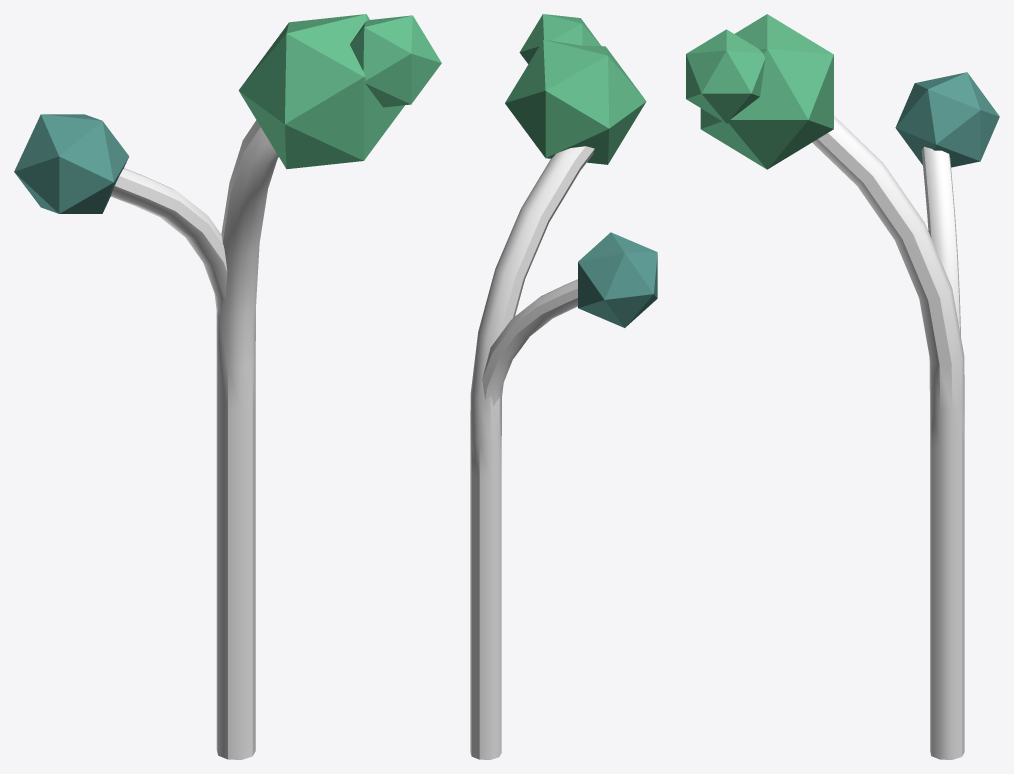
File: Flower_3_sprout.obj
The picture shows the model from 3 angles, left to right: view 1: azimuth 30°, elevation 25°; view 2: azimuth 150°, elevation 25°; view 3: azimuth 270°, elevation 25°; orthographic projection. The views are drawn at different scales.
Visible parts, largest first — view 1: Branch3, Platonic_1, Platonic, Platonic.8, Branch2; view 2: Branch3, Platonic_1, Platonic, Branch2, Platonic.8; view 3: Branch3, Platonic_1, Platonic, Platonic.8, Branch2.
Boxes of the visible parts, <box> form: Branch3: <box>216,120,278,759</box>; Platonic_1: <box>238,14,404,169</box>; Platonic: <box>14,114,129,213</box>; Platonic.8: <box>350,15,441,107</box>; Branch2: <box>111,168,227,314</box>; Branch3: <box>470,146,594,759</box>; Platonic_1: <box>505,40,646,164</box>; Platonic: <box>578,232,657,327</box>; Branch2: <box>481,279,577,406</box>; Platonic.8: <box>519,14,600,64</box>; Branch3: <box>812,116,964,759</box>; Platonic_1: <box>700,14,833,169</box>; Platonic: <box>895,72,999,167</box>; Platonic.8: <box>686,29,765,123</box>; Branch2: <box>921,146,960,336</box>.
Bounding box in the file's own units: 12.32 × 33.83 × 13.26.
